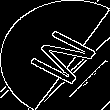M_SE: (14, 22, 96, 88)
